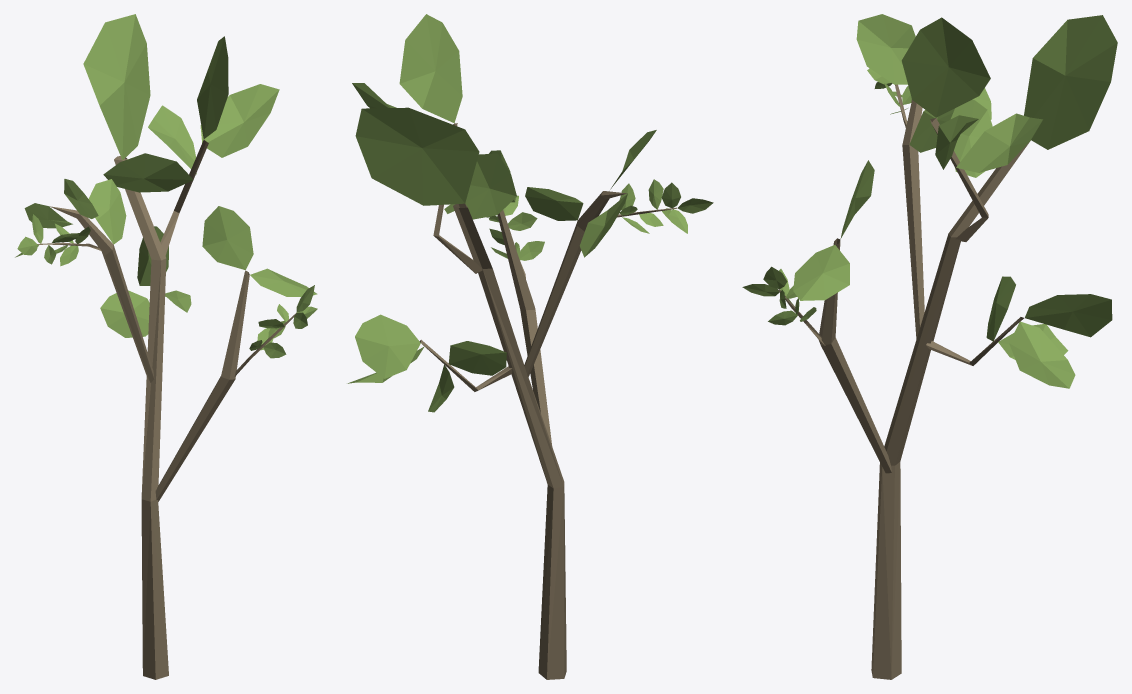
The model's file is Cherry_2_2.fbx.
3 views of the same model, side by side, from view 1: azimuth 30°, elevation 25°; view 2: azimuth 150°, elevation 25°; view 3: azimuth 270°, elevation 25° (orthographic). The views are drawn at different scales.
Parts seen in each view (by area): view 1: Cherry_2_2; view 2: Cherry_2_2; view 3: Cherry_2_2.
Boxes of the visible parts, <box> form: Cherry_2_2: <box>15,14,317,679</box>; Cherry_2_2: <box>347,14,713,679</box>; Cherry_2_2: <box>742,14,1117,679</box>.
Size of the model in its own units: 139 by 269 by 129.
